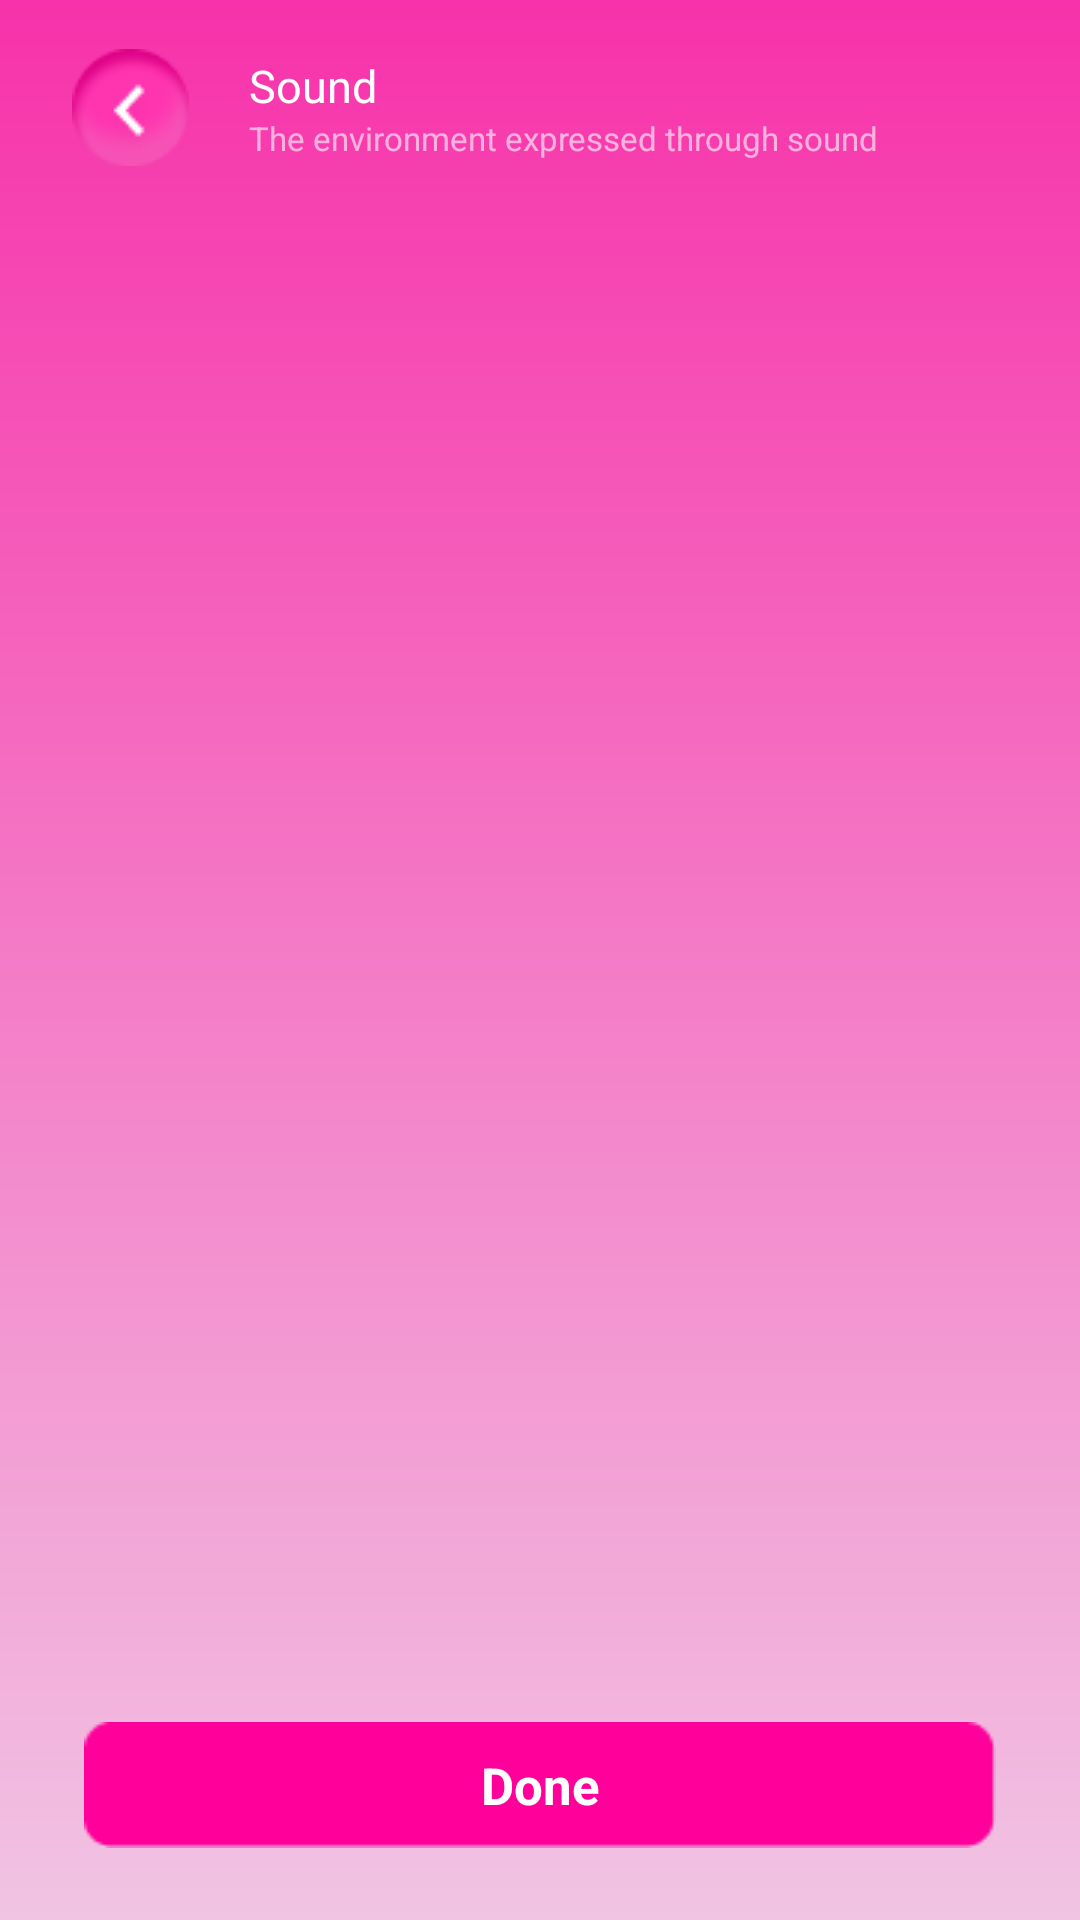

Icons on this 1080x1920 Android screen, each with the point to tap as [x,y]:
music back: [128,93]
